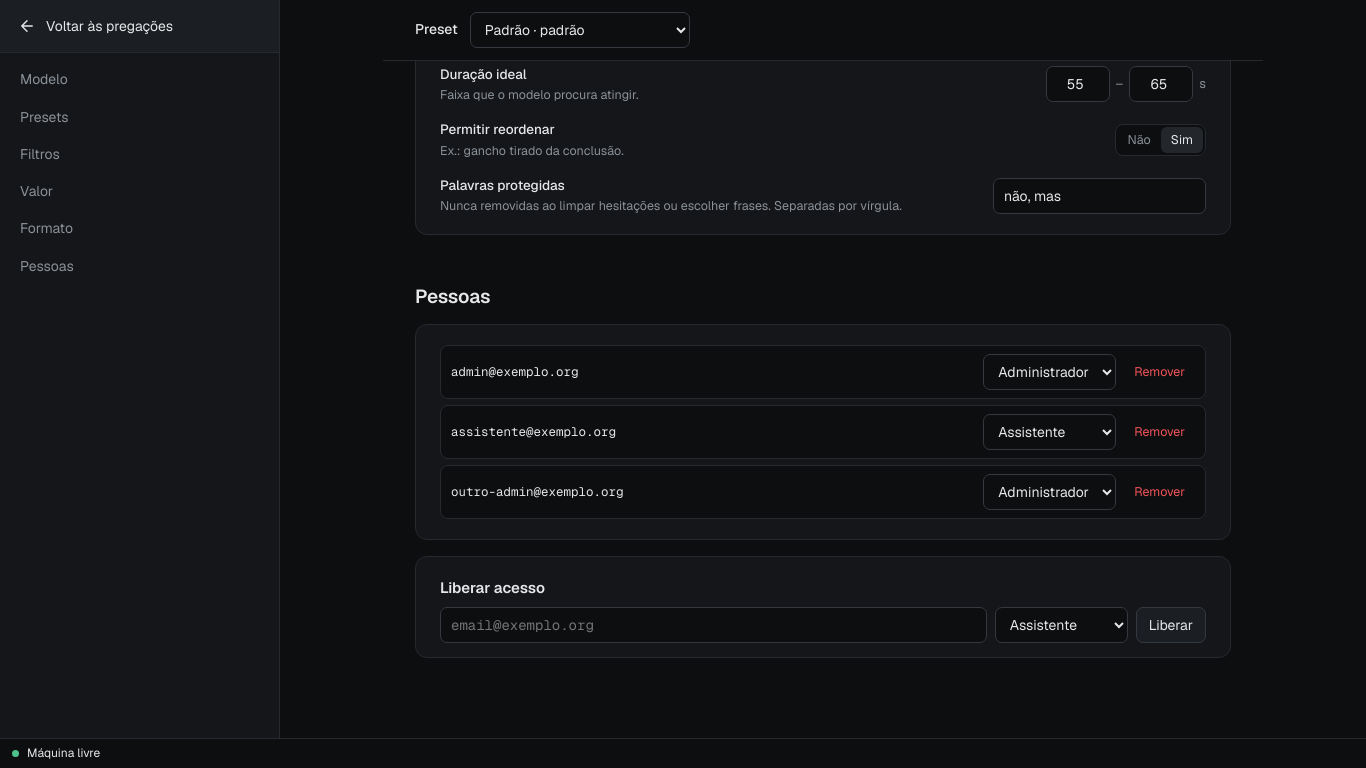
sends an administrator who gives up the role to the refusal, as an assistant
(page scrolled)
Expected: the navigation bar named "Seções das configurações" is shown, left=0, top=0, right=280, bottom=738
Select "Assistente" in the dropdown named "Papel de admin@exemplo.org" at [1050, 372], box left=983, top=354, right=1116, bottom=390
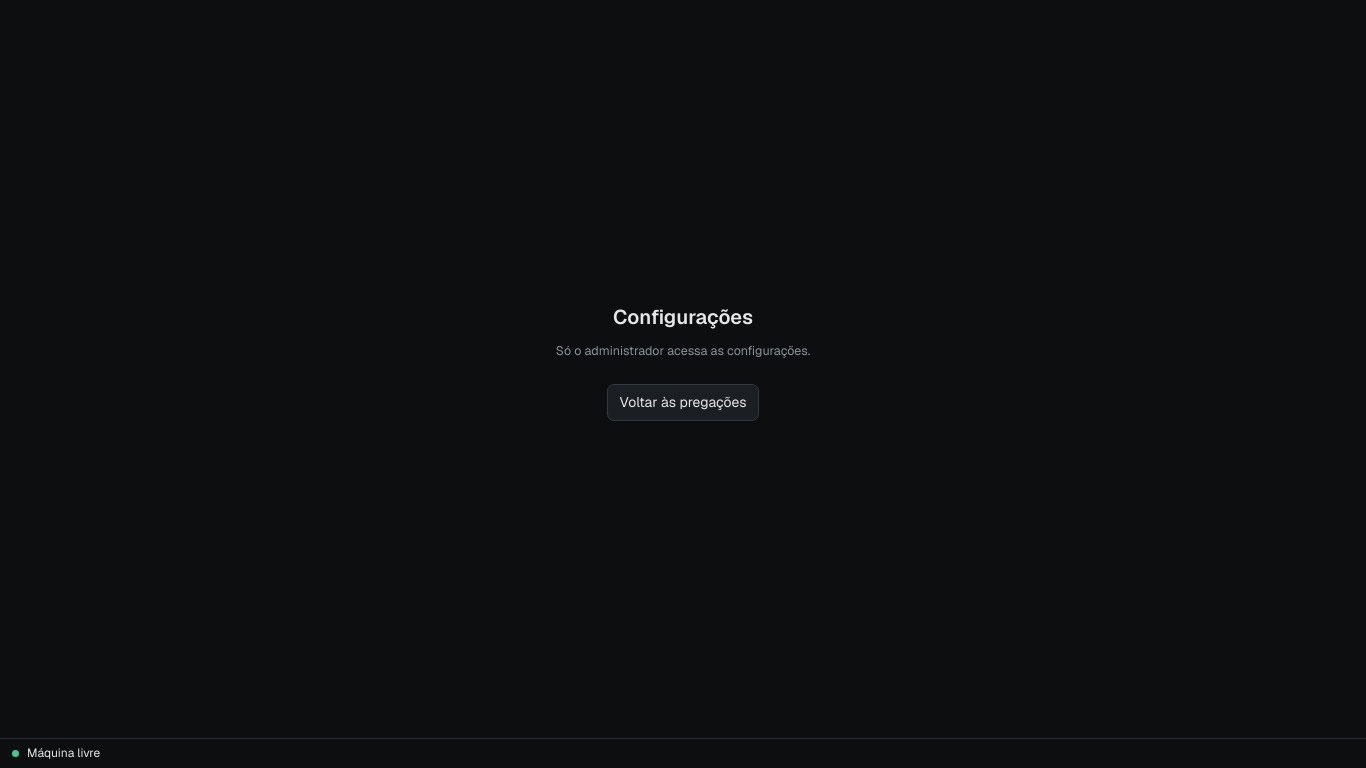
Expected: the text "Só o administrador acessa as configurações." is shown, left=556, top=342, right=810, bottom=360
